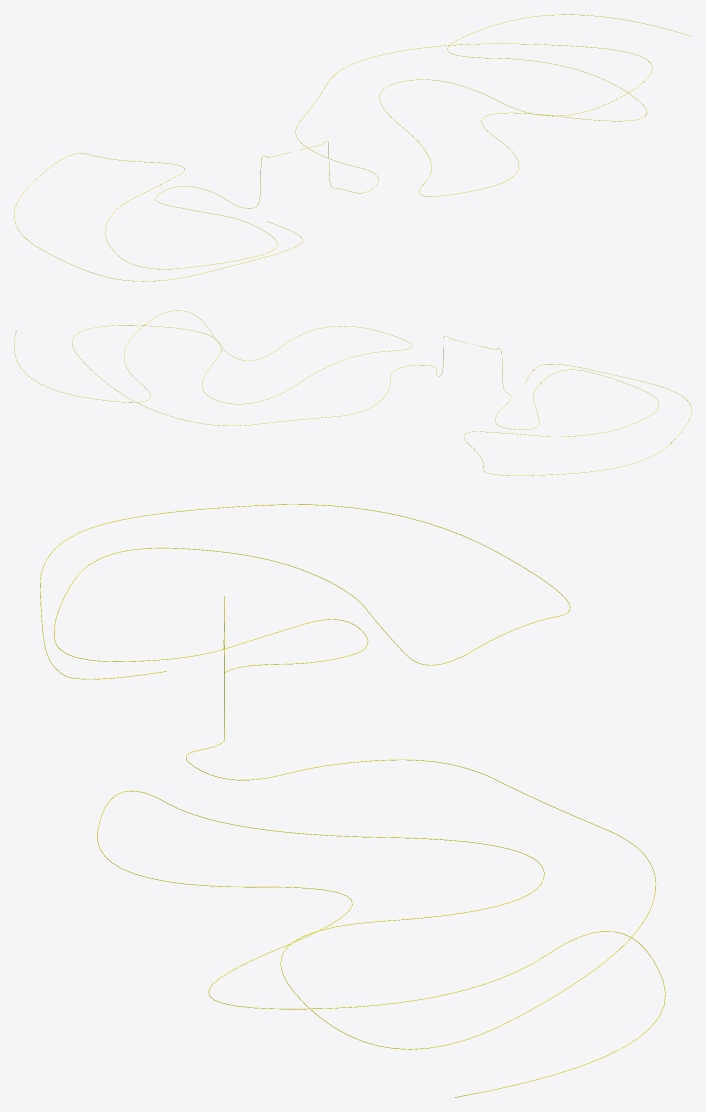
Rendered from kabel tersambung.fbx.
The picture shows the model from 3 angles, top to bottom: view 1: azimuth 30°, elevation 25°; view 2: azimuth 150°, elevation 25°; view 3: azimuth 270°, elevation 25°; orthographic projection. The views are drawn at different scales.
Visible parts, largest first — view 1: kabel tersambung; view 2: kabel tersambung; view 3: kabel tersambung.
Boxes of the visible parts, <box> form: kabel tersambung: <box>14,14,691,281</box>; kabel tersambung: <box>14,310,691,475</box>; kabel tersambung: <box>40,504,665,1097</box>.
Size of the model in its own units: 137 by 9.25 by 61.05.
1 material, 1 textured.
